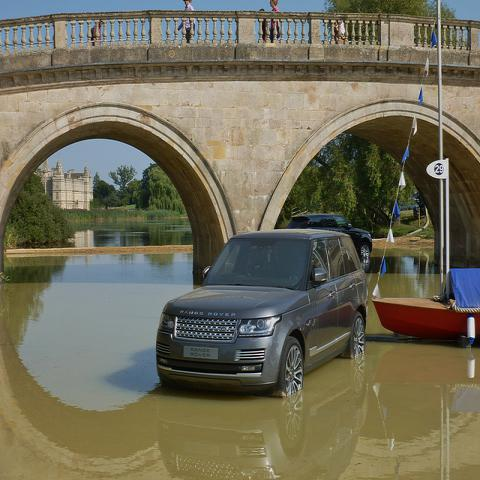car: (156, 226, 368, 396), (287, 214, 374, 271)
